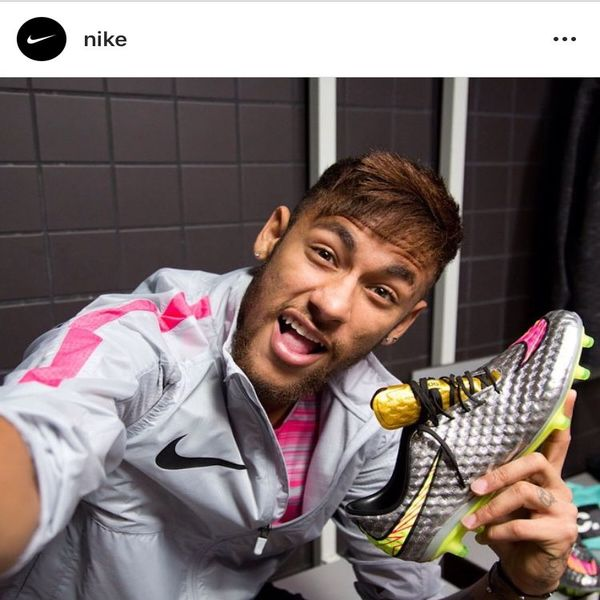nike: (355, 426, 456, 561), (152, 429, 253, 476)
